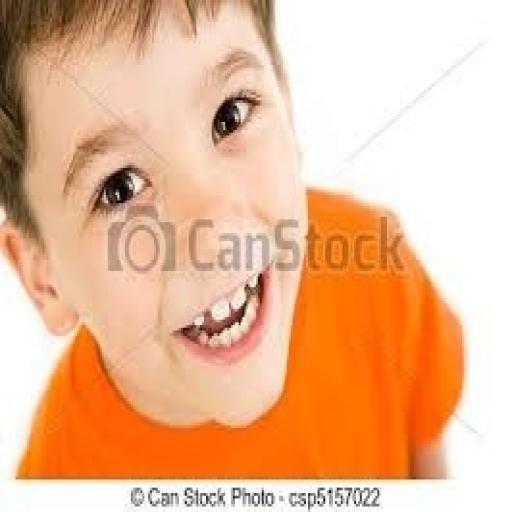laughing: (0, 0, 470, 474)
